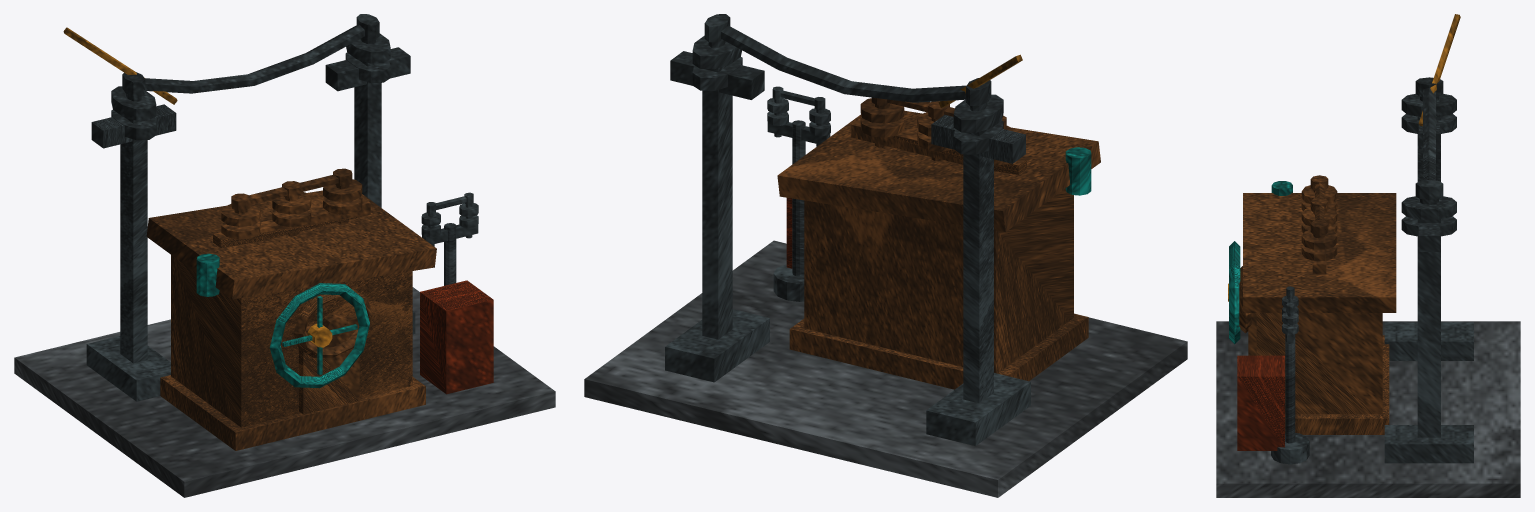
File: west-switchback-line-house.glb
3 views of the same model, side by side, from view 1: azimuth 30°, elevation 25°; view 2: azimuth 150°, elevation 25°; view 3: azimuth 270°, elevation 25° (orthographic). The views are drawn at different scales.
Parts seen in each view (by area): view 1: west-switchback-line-house; view 2: west-switchback-line-house; view 3: west-switchback-line-house.
Boxes of the visible parts, box(x1,y1,x2,y2) form: west-switchback-line-house: box(14, 14, 555, 497); west-switchback-line-house: box(584, 14, 1187, 497); west-switchback-line-house: box(1216, 14, 1520, 497).
Size of the model in its own units: 5.8 by 5.48 by 4.6.
1 material, 1 textured.
